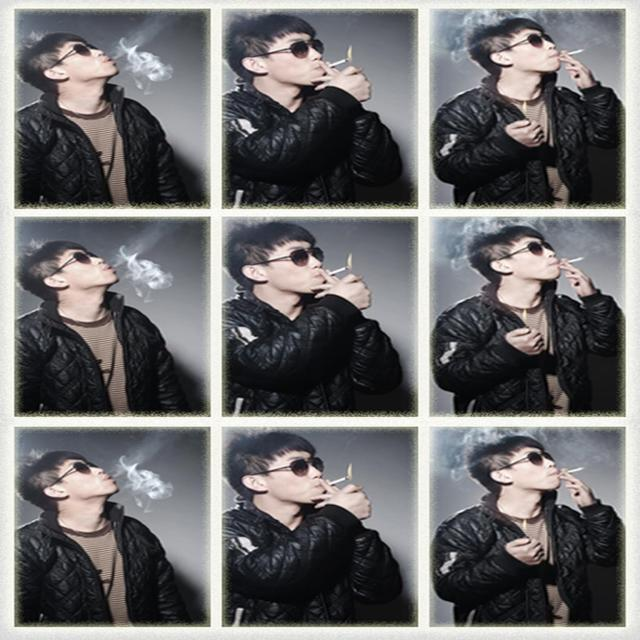smoking: (34, 228, 154, 315), (244, 31, 378, 101), (252, 435, 366, 512), (61, 442, 165, 520), (488, 22, 594, 98), (254, 235, 368, 303), (25, 32, 160, 89), (502, 233, 602, 299), (493, 436, 595, 499)
